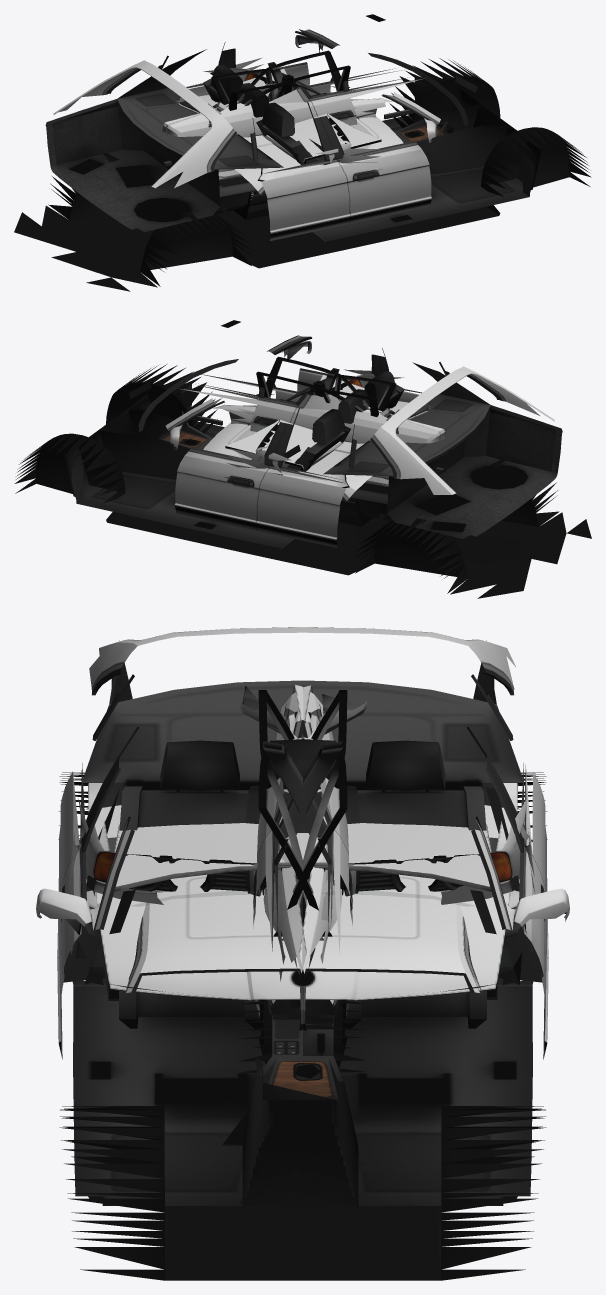
3 views of the same model, one above another, from view 1: azimuth 30°, elevation 25°; view 2: azimuth 150°, elevation 25°; view 3: azimuth 270°, elevation 25° (orthographic). The views are drawn at different scales.
Visible parts, largest first — view 1: e34body_shell_af3455d4, e34sys_cabin-carpet_d5c646cb, e34body_rear-quarter-right_a0b11fea, e34sys_rear-seat-cushion_6b4c83fb, e34body_trunk_d5f193bc, e34body_roof_1b7e4b5b, e34body_hood_90bfd0b4, e34body_front-fender-right_991ca033, e34body_front-door-right_538db514, e34body_rear-door-right_c4c7da32, e34body_rear-quarter-left_91dc4102, e34sys_front-seat-1_bbf076a6 (+4 smaller); view 2: e34body_shell_af3455d4, e34sys_cabin-carpet_d5c646cb, e34body_rear-quarter-left_91dc4102, e34sys_rear-seat-cushion_6b4c83fb, e34body_trunk_d5f193bc, e34body_roof_1b7e4b5b, e34body_hood_90bfd0b4, e34body_front-fender-left_6c55ec87, e34body_front-door-left_12d46a69, e34body_rear-door-left_1f5b071e, e34body_front-bumper_5e657711, e34sys_front-seat-1_bbf076a6 (+4 smaller); view 3: e34sys_cabin-carpet_d5c646cb, e34body_shell_af3455d4, e34body_roof_1b7e4b5b, e34sys_rear-seat-cushion_6b4c83fb, e34body_hood_90bfd0b4, e34body_trunk_d5f193bc, e34body_front-bumper_5e657711, e34sys_dashboard_a31885b6, e34body_front-fender-right_991ca033, e34body_front-fender-left_6c55ec87, e34body_rear-quarter-left_91dc4102, e34body_rear-quarter-right_a0b11fea (+8 smaller).
Boxes of the visible parts, left/top/right/bottom form: e34body_shell_af3455d4: left=14, top=29, right=591, bottom=291; e34sys_cabin-carpet_d5c646cb: left=45, top=14, right=541, bottom=241; e34body_rear-quarter-right_a0b11fea: left=162, top=77, right=425, bottom=207; e34sys_rear-seat-cushion_6b4c83fb: left=203, top=65, right=321, bottom=164; e34body_trunk_d5f193bc: left=217, top=68, right=381, bottom=164; e34body_roof_1b7e4b5b: left=235, top=92, right=403, bottom=196; e34body_hood_90bfd0b4: left=198, top=95, right=322, bottom=181; e34body_front-fender-right_991ca033: left=208, top=98, right=393, bottom=213; e34body_front-door-right_538db514: left=211, top=69, right=322, bottom=219; e34body_rear-door-right_c4c7da32: left=237, top=50, right=358, bottom=118; e34body_rear-quarter-left_91dc4102: left=165, top=68, right=404, bottom=213; e34sys_front-seat-1_bbf076a6: left=237, top=83, right=268, bottom=136; e34body_shell_af3455d4: left=14, top=335, right=591, bottom=598; e34sys_cabin-carpet_d5c646cb: left=64, top=320, right=562, bottom=548; e34body_rear-quarter-left_91dc4102: left=179, top=383, right=445, bottom=514; e34sys_rear-seat-cushion_6b4c83fb: left=285, top=371, right=404, bottom=471; e34body_trunk_d5f193bc: left=225, top=374, right=390, bottom=470; e34body_roof_1b7e4b5b: left=203, top=398, right=372, bottom=502; e34body_hood_90bfd0b4: left=283, top=401, right=408, bottom=487; e34body_front-fender-left_6c55ec87: left=213, top=404, right=398, bottom=520; e34body_front-door-left_12d46a69: left=285, top=375, right=396, bottom=526; e34body_rear-door-left_1f5b071e: left=248, top=356, right=370, bottom=425; e34body_front-bumper_5e657711: left=255, top=374, right=403, bottom=475; e34sys_front-seat-1_bbf076a6: left=338, top=389, right=369, bottom=442; e34sys_cabin-carpet_d5c646cb: left=72, top=640, right=533, bottom=1211; e34body_shell_af3455d4: left=36, top=627, right=569, bottom=1280; e34body_roof_1b7e4b5b: left=125, top=875, right=482, bottom=993; e34sys_rear-seat-cushion_6b4c83fb: left=119, top=740, right=486, bottom=1028; e34body_hood_90bfd0b4: left=88, top=783, right=517, bottom=1000; e34body_trunk_d5f193bc: left=114, top=823, right=491, bottom=891; e34body_front-bumper_5e657711: left=78, top=798, right=528, bottom=938; e34sys_dashboard_a31885b6: left=63, top=787, right=542, bottom=1000; e34body_front-fender-right_991ca033: left=238, top=685, right=366, bottom=1072; e34body_front-fender-left_6c55ec87: left=239, top=694, right=366, bottom=1072; e34body_rear-quarter-left_91dc4102: left=252, top=684, right=352, bottom=1048; e34body_rear-quarter-right_a0b11fea: left=253, top=685, right=352, bottom=1048.
Size of the model in its own units: 3.96 by 1.21 by 1.88.
3 materials, 3 textured.
